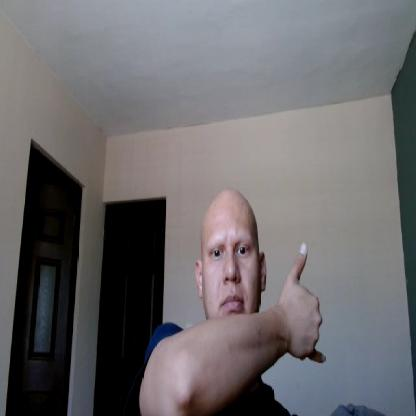Y: (282, 243, 326, 365)
